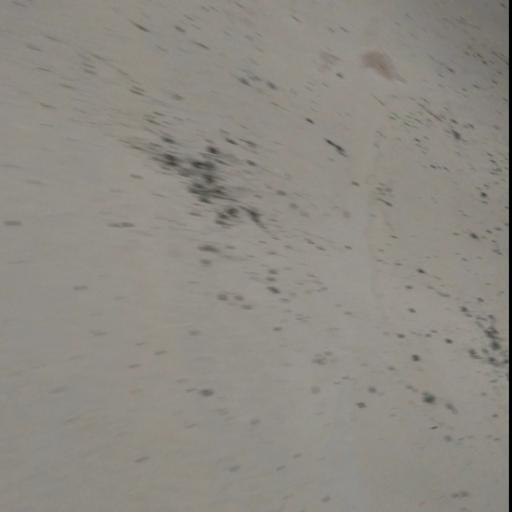stain: (15, 13, 512, 415)
